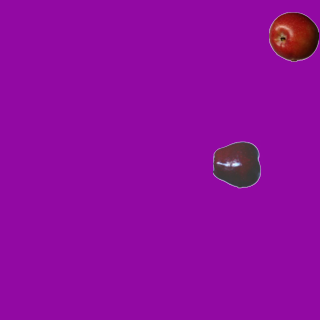Apple Braeburn: (268, 11, 318, 61)
Apple Red Delicious: (212, 139, 262, 189)
